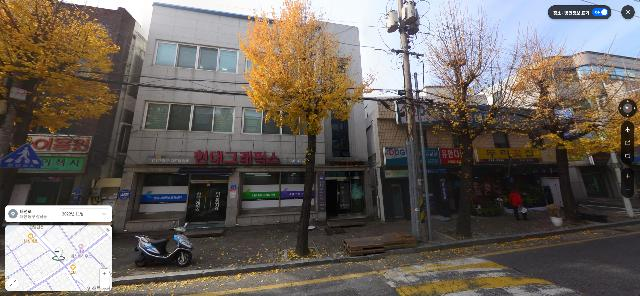ginkgo: (236, 0, 380, 257), (394, 0, 537, 238), (494, 14, 640, 224), (1, 0, 122, 166)
